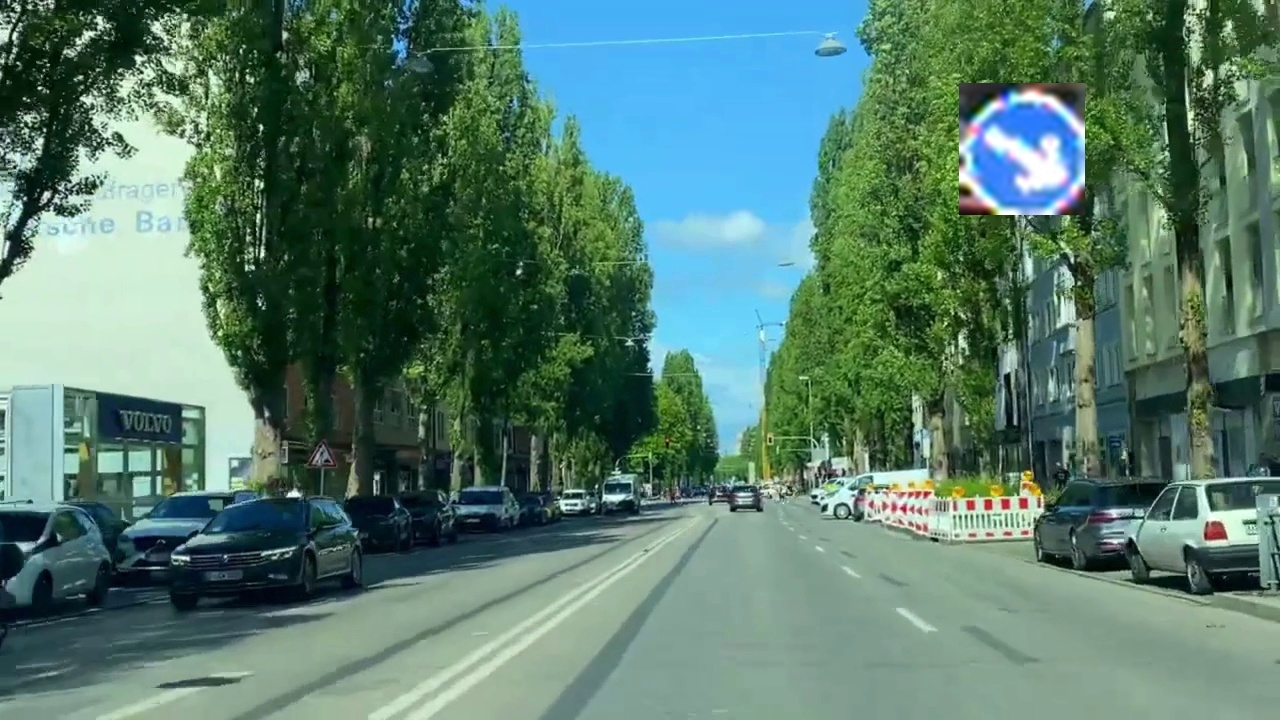Keep right: (959, 83, 1085, 215)
